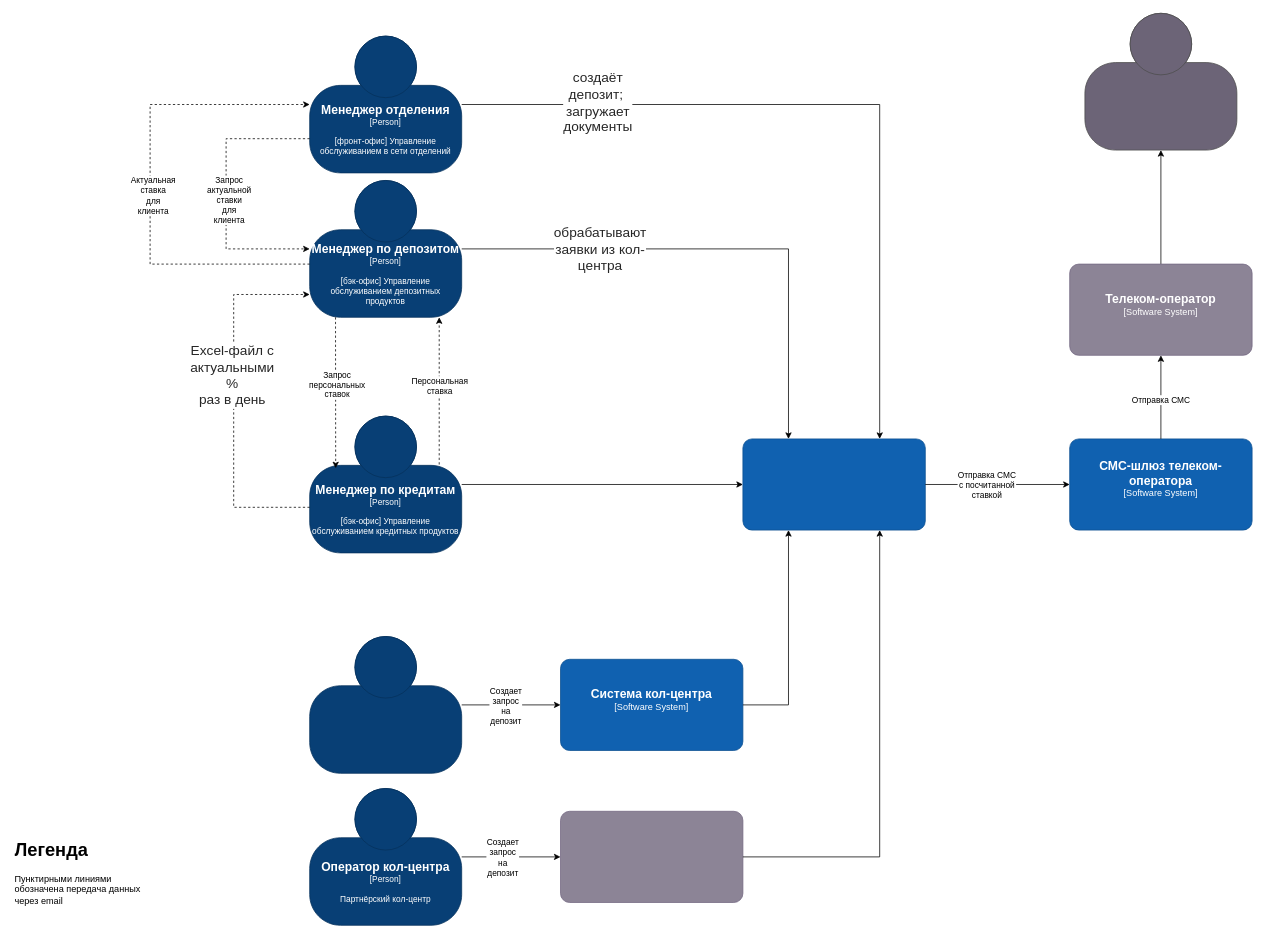
Image size: 1265x941. Some labels were removed from this diagram. Each missing label, with the centre of its shape:
Автоматизированная банковская система (АБС) [Software System]: point 833,484
Клиент [Person]: point 1160,81
Оператор кол-центра [Person] Кол-центр банка «Стандарт»: point 385,704
Система партнёрского кол-центра [Software System]: point 651,856
